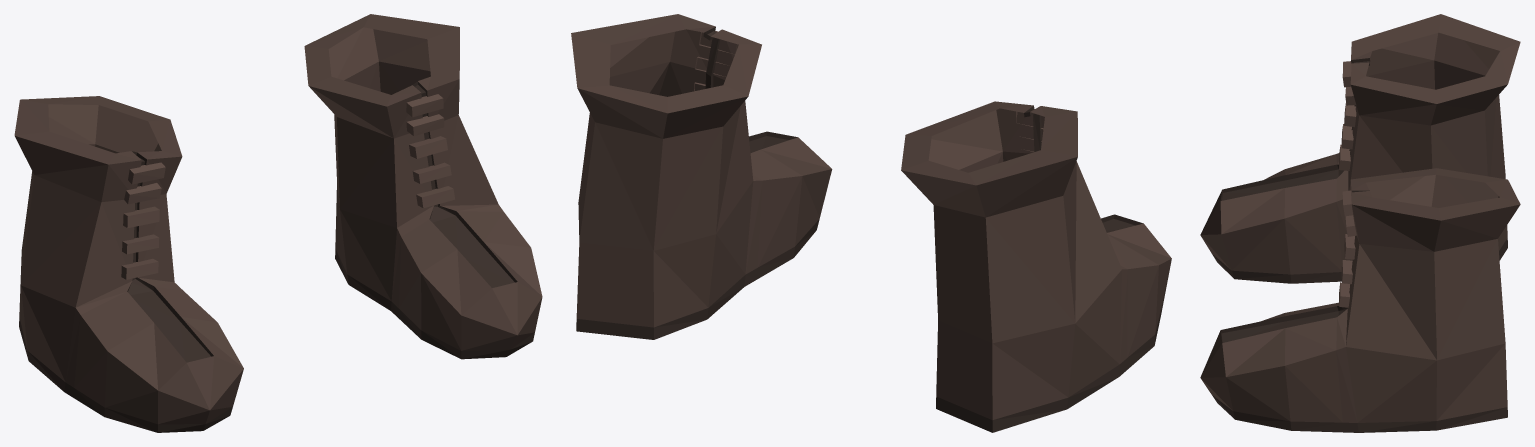
The model's file is WarriorFeet.dae.
3 renders of one model, left to right at view 1: azimuth 30°, elevation 25°; view 2: azimuth 150°, elevation 25°; view 3: azimuth 270°, elevation 25°, orthographic. The views are drawn at different scales.
Visible parts, largest first — view 1: Feet; view 2: Feet; view 3: Feet.
Boxes of the visible parts, x1,y1,x2,y2 form: Feet: (14, 14, 542, 432); Feet: (571, 14, 1171, 432); Feet: (1200, 14, 1520, 432).
Bounding box in the file's own units: 2.66 × 1.74 × 1.29.
